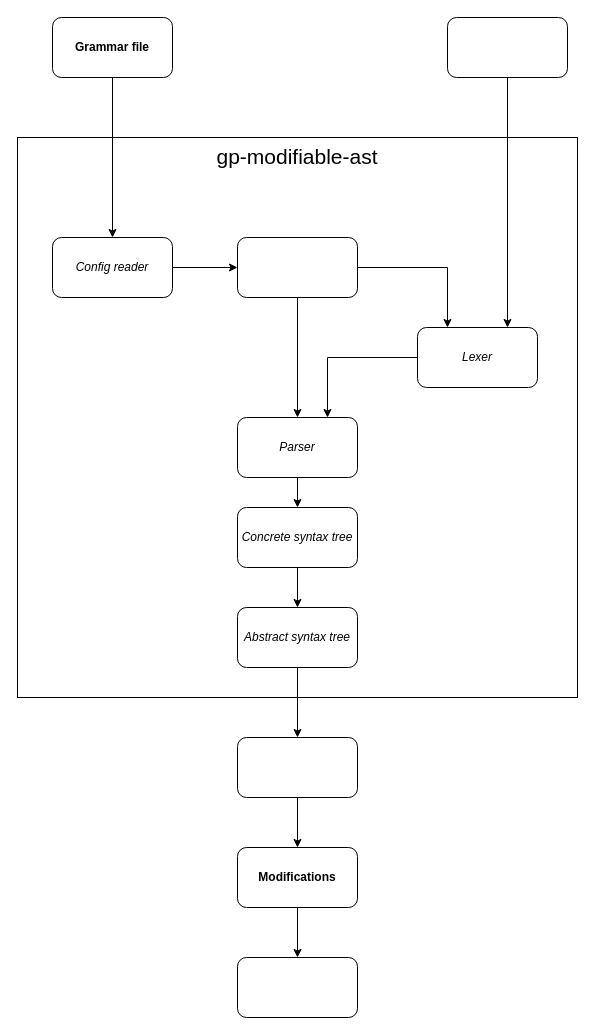
Image size: 595x1035. Some labels were removed from this diagram. The shapes that lost their labels are listed below. From the top down, each one's centre as x and y in pixels, then its label:
At [507,47]: "Source code".
At [297,267]: "Language definition".
At [297,767]: "Selectors".
At [297,987]: "Modified source code".
